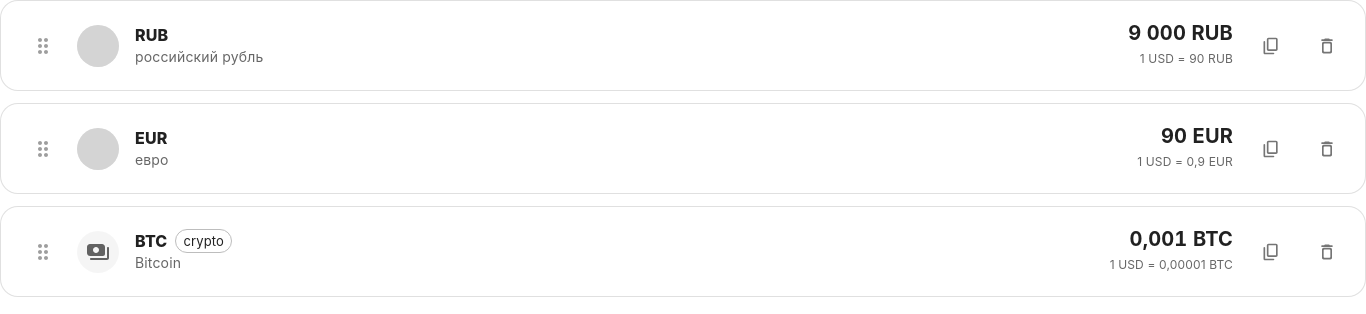
Test: converter UI › removes a currency directly from the results list
Click the button named "Убрать EUR": click(1327, 148) [1305,126,1349,170]
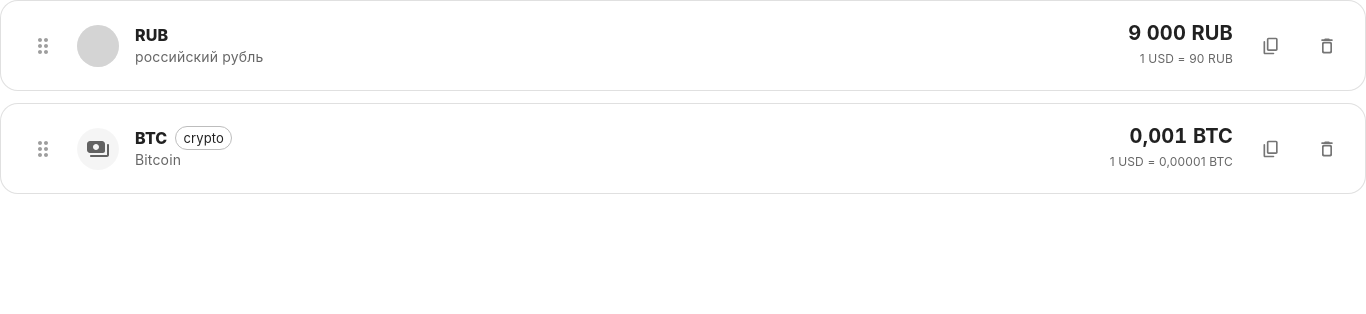
Expected: the text "EUR" is gone
